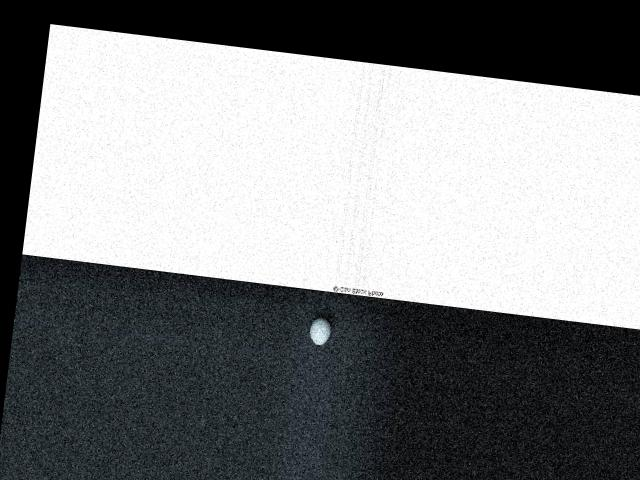egg: (308, 316, 332, 346)
